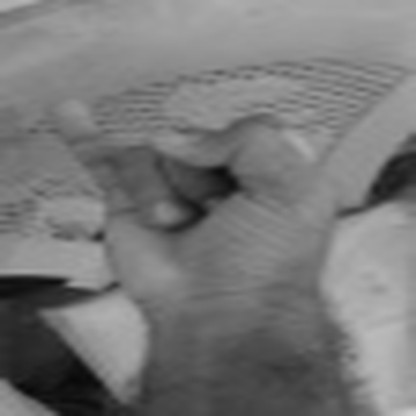i: (49, 93, 367, 304)
